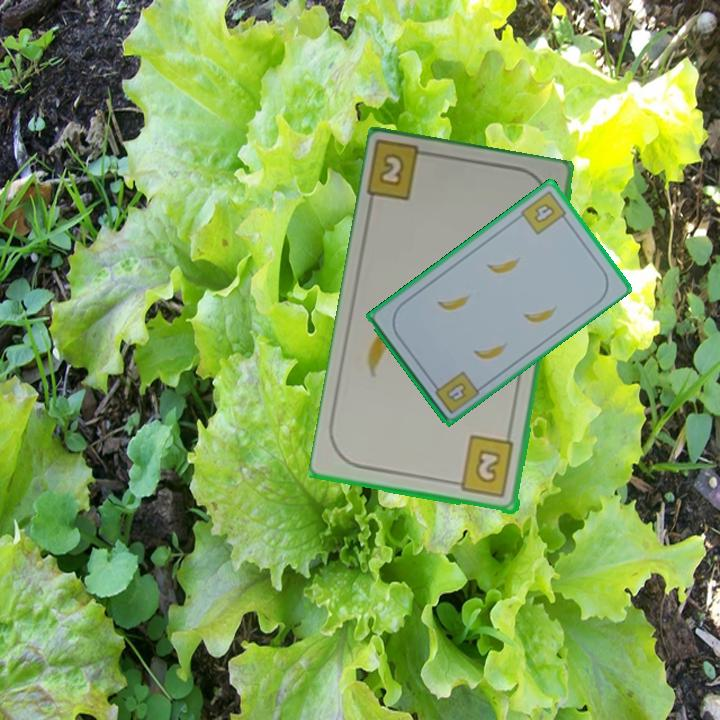2b: (365, 140, 439, 204), (448, 433, 517, 501)
4b: (517, 187, 572, 238), (428, 367, 480, 417)
